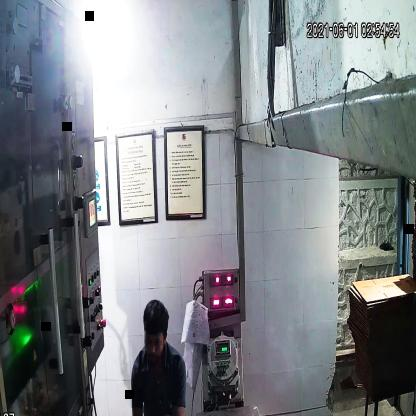no_goggles: (142, 332, 166, 351)
